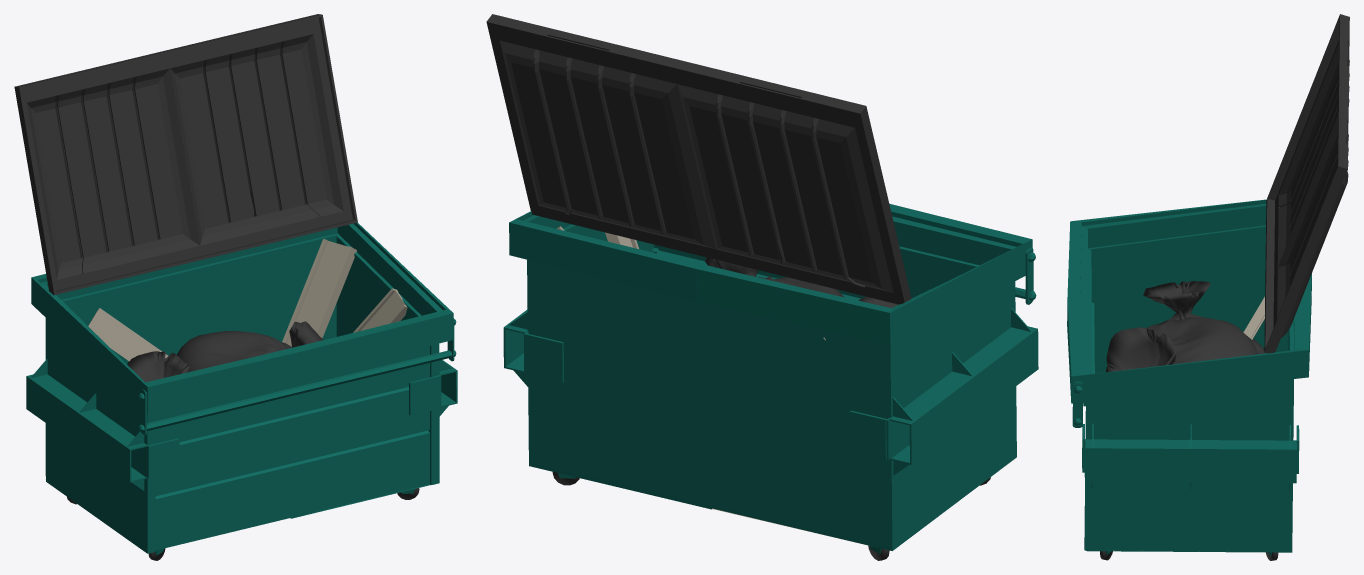
The model's file is dumpster-opened.gltf.
3 renders of one model, left to right at view 1: azimuth 30°, elevation 25°; view 2: azimuth 150°, elevation 25°; view 3: azimuth 270°, elevation 25°, orthographic. The views are drawn at different scales.
Visible parts, largest first — view 1: Dumpster_Cube.017; view 2: Dumpster_Cube.017; view 3: Dumpster_Cube.017.
Boxes of the visible parts, x1,y1,x2,y2 form: Dumpster_Cube.017: [14, 14, 457, 560]; Dumpster_Cube.017: [486, 14, 1038, 560]; Dumpster_Cube.017: [1067, 14, 1349, 560].
Size of the model in its own units: 3.5 by 4.04 by 2.54.
